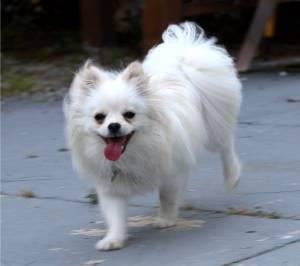dog-pomeranian: (79, 58, 148, 159)
